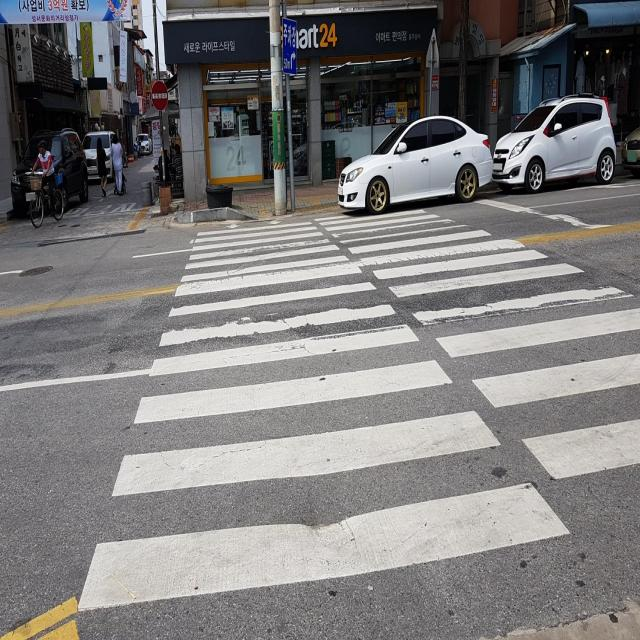횡단보도: (76, 199, 638, 617)
